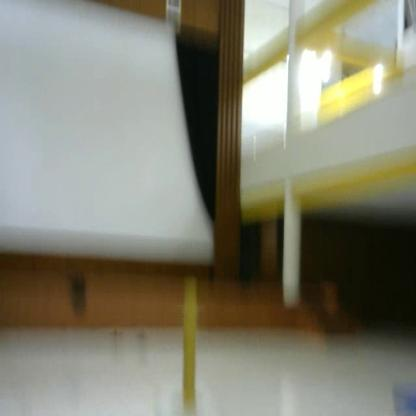pole: (174, 275, 211, 416)
